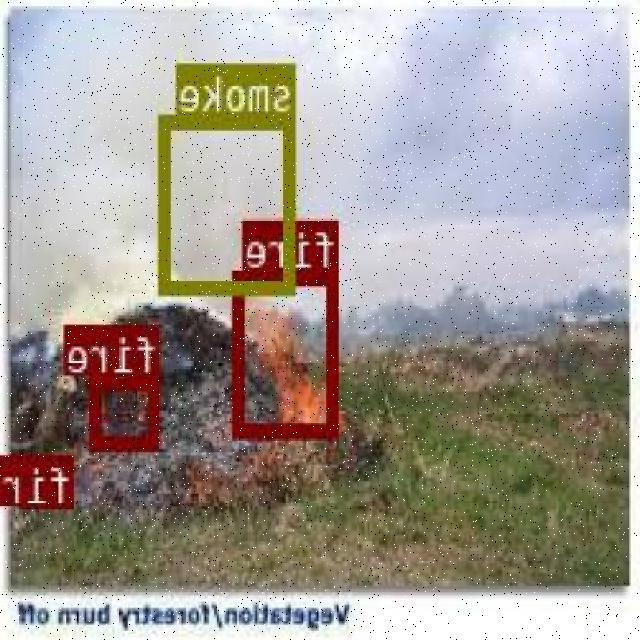smoke: (161, 112, 297, 292)
